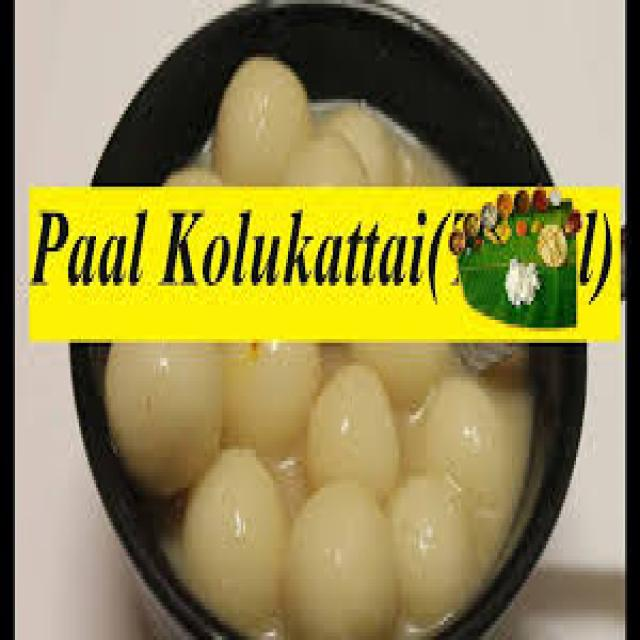paal kolukattai: (96, 53, 476, 640)
